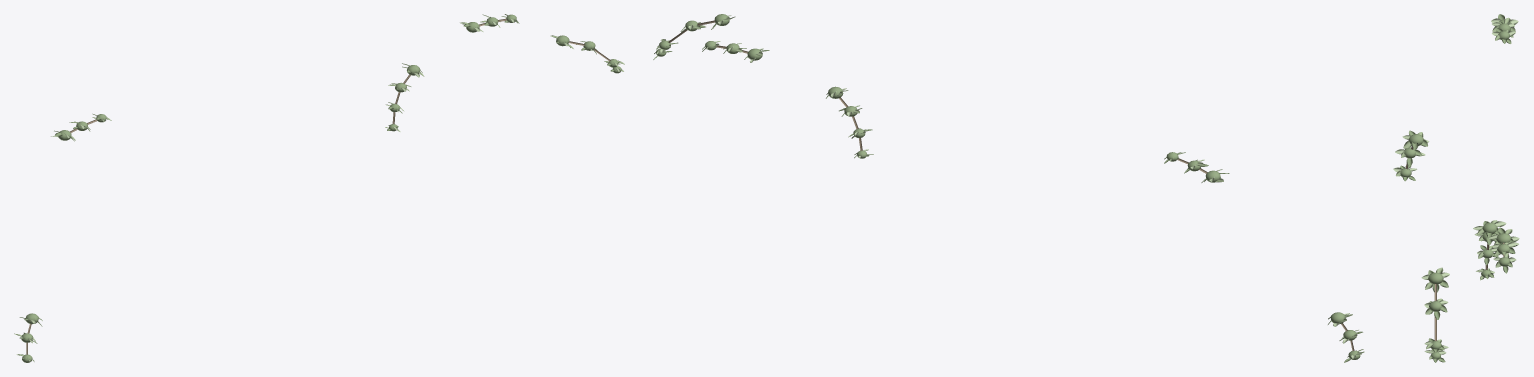
File: climbing_vines.glb
3 views of the same model, side by side, from view 1: azimuth 30°, elevation 25°; view 2: azimuth 150°, elevation 25°; view 3: azimuth 270°, elevation 25° (orthographic). The views are drawn at different scales.
Visible parts, largest first — view 1: Climbing_Vines_Set; view 2: Climbing_Vines_Set; view 3: Climbing_Vines_Set.
Part boxes in pixels (x1=…): Climbing_Vines_Set: x1=14, y1=14, x2=624, y2=362; Climbing_Vines_Set: x1=653, y1=14, x2=1364, y2=362; Climbing_Vines_Set: x1=1393, y1=14, x2=1519, y2=362.
Bounding box in the file's own units: 12.74 × 3.74 × 2.01.
